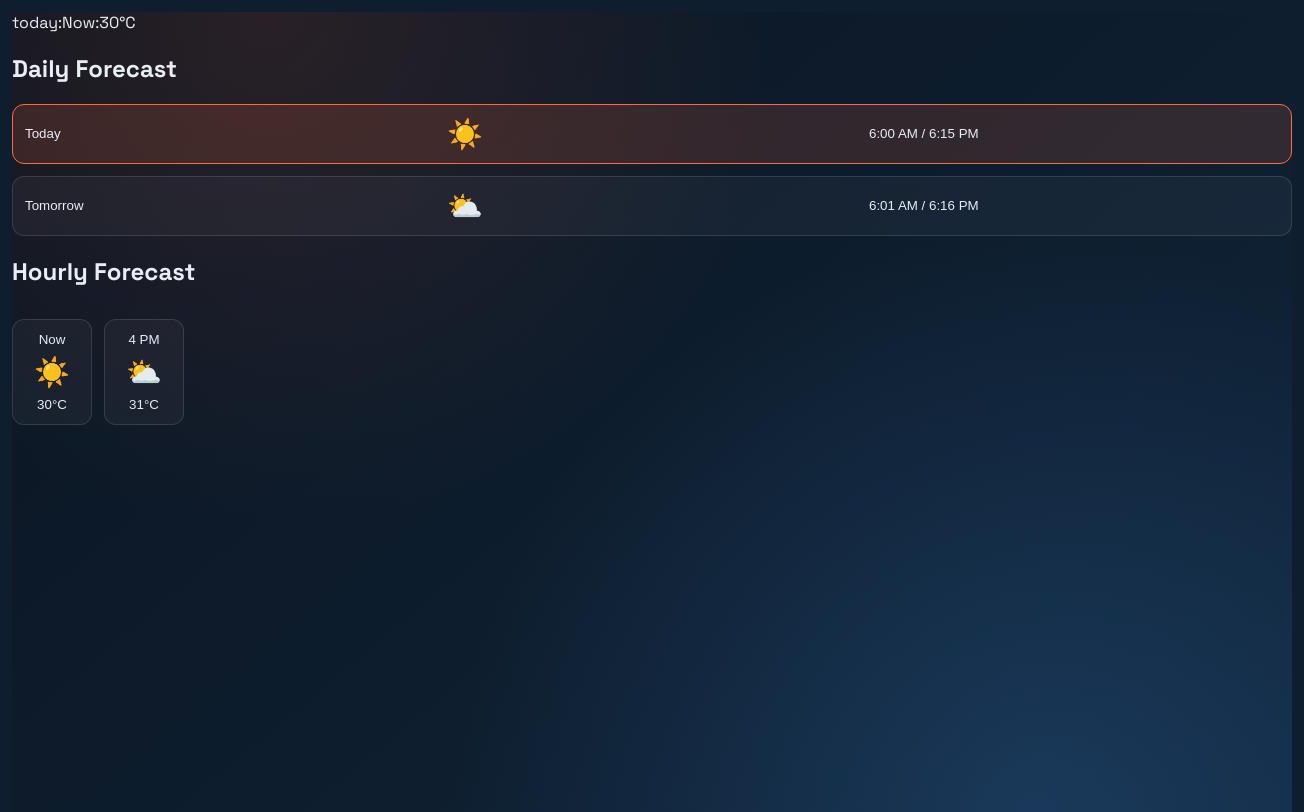
forecast integration › switches day and updates hour-driven summary
Expected: the text with test id "selected-summary" reads "today:Now:30°C", x1=12 y1=12 x2=136 y2=33
Click the button "Tomorrow ⛅️ 6:01 AM / 6:16 PM" at (54, 206), box x1=12 y1=176 x2=1292 y2=236
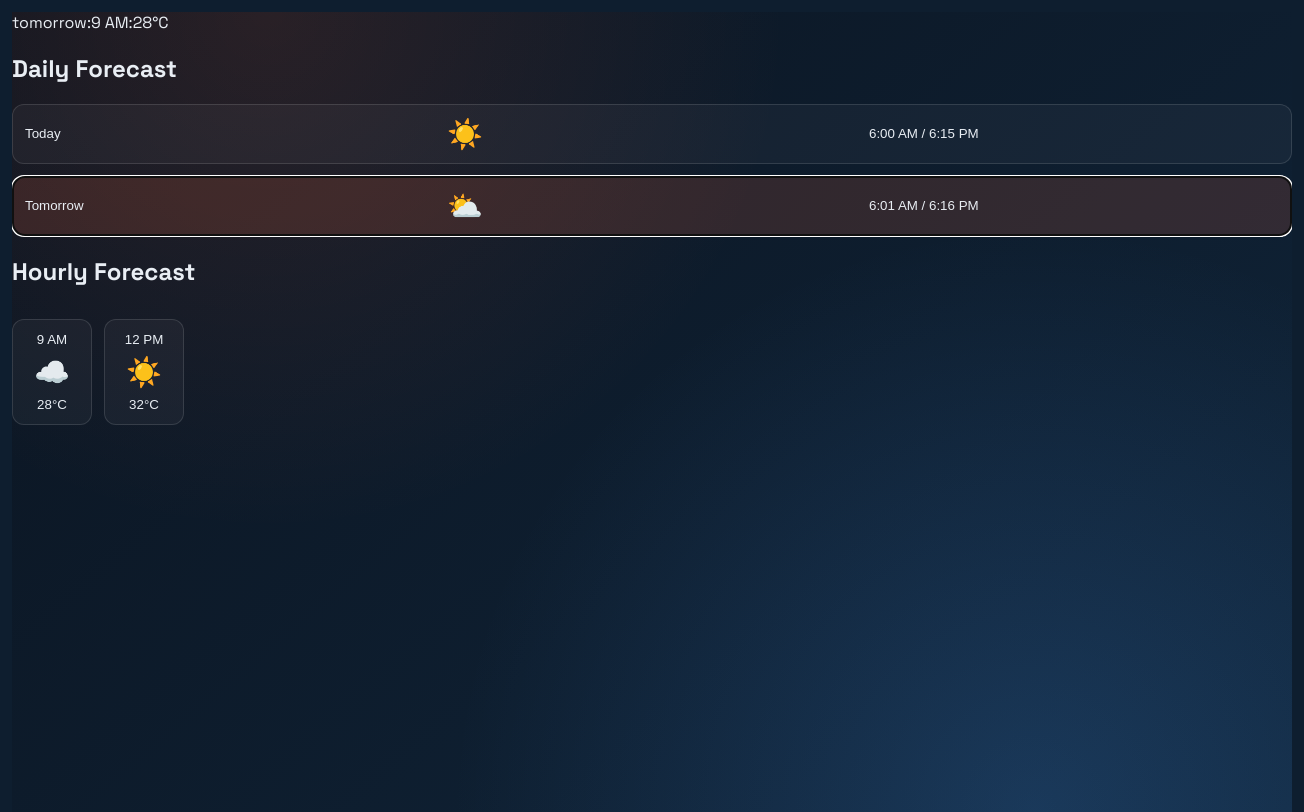
Expected: the text with test id "selected-summary" reads "tomorrow:9 AM:28°C", x1=12 y1=12 x2=169 y2=33
Click the button "12 PM ☀️ 32°C" at (144, 372), box x1=104 y1=319 x2=184 y2=425
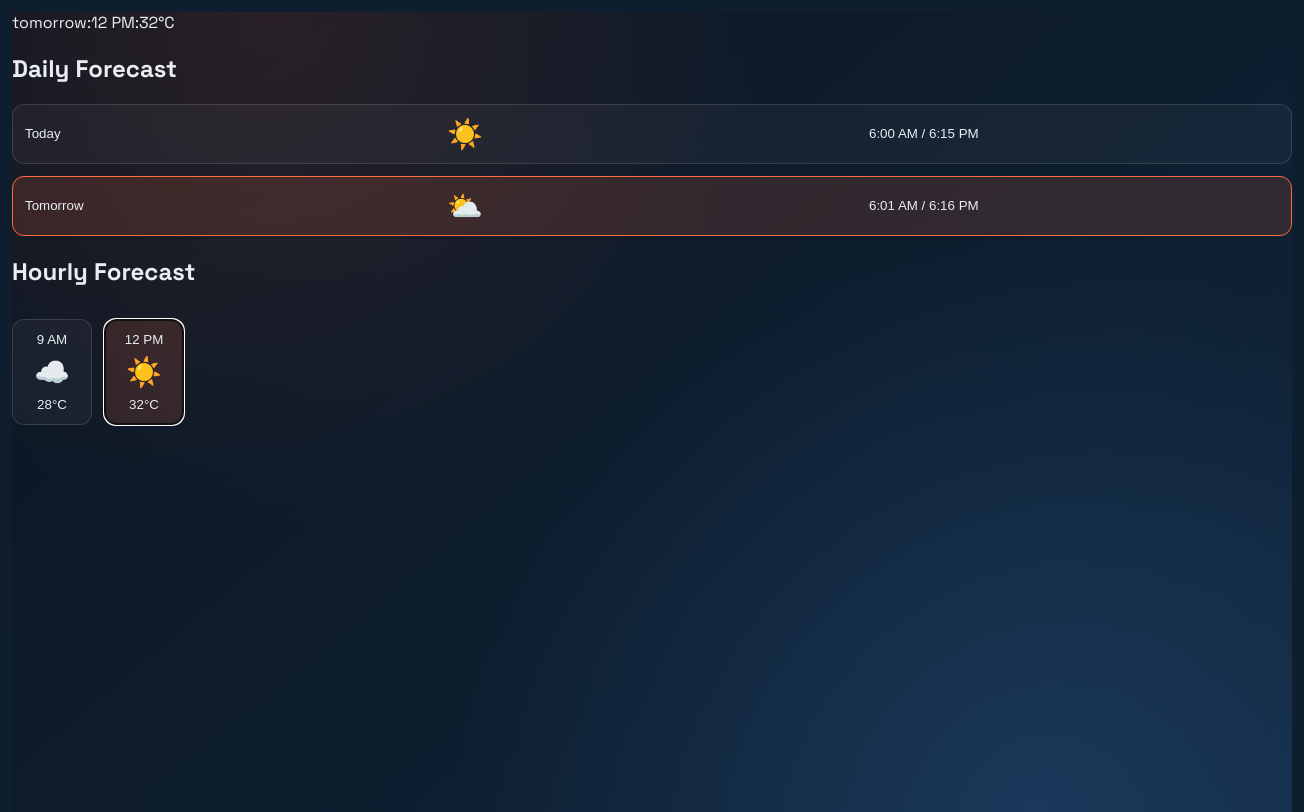
Expected: the text with test id "selected-summary" reads "tomorrow:12 PM:32°C", x1=12 y1=12 x2=175 y2=33
